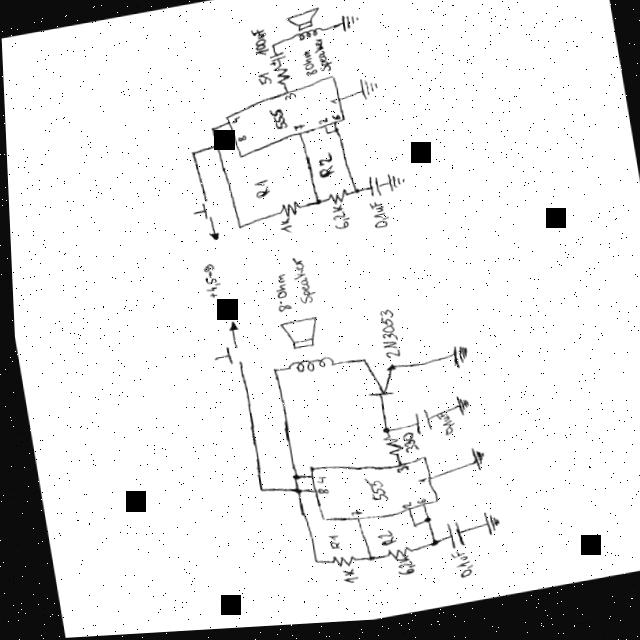capacitor: (439, 524, 460, 554), (408, 411, 429, 439), (266, 52, 287, 70), (365, 177, 380, 202)
ground: (356, 77, 380, 105), (445, 347, 468, 376), (476, 512, 498, 542), (338, 15, 361, 39), (380, 174, 403, 198), (465, 451, 483, 477), (450, 398, 468, 423)
junction: (376, 428, 388, 439), (423, 542, 434, 551), (349, 190, 359, 199), (286, 475, 296, 484), (289, 489, 300, 497), (417, 519, 426, 528), (253, 487, 263, 495), (311, 201, 320, 209), (406, 524, 414, 532), (267, 369, 275, 376), (233, 225, 241, 232), (211, 144, 219, 151), (362, 558, 369, 565), (330, 130, 338, 136), (208, 127, 214, 134), (187, 152, 194, 158), (306, 561, 313, 567), (269, 44, 275, 51), (322, 133, 329, 139)
resistor: (376, 437, 399, 462), (323, 555, 353, 573), (273, 202, 301, 221), (271, 65, 290, 88), (381, 550, 409, 564), (324, 192, 346, 209)
source: (222, 321, 237, 334), (204, 231, 219, 243)
switch: (209, 344, 240, 372), (187, 199, 211, 225)
text: (371, 310, 398, 365), (287, 257, 316, 308), (266, 271, 290, 317), (310, 38, 333, 76), (198, 264, 221, 301), (358, 477, 385, 508), (443, 552, 468, 584), (312, 153, 336, 182), (366, 203, 388, 234), (430, 414, 453, 442), (327, 205, 349, 234), (250, 30, 269, 61), (298, 51, 318, 80), (266, 109, 287, 133), (368, 532, 393, 552), (388, 559, 410, 580), (250, 180, 270, 202), (396, 435, 414, 457), (335, 571, 354, 589), (321, 535, 337, 554), (275, 219, 291, 237), (255, 72, 272, 88), (390, 468, 405, 479), (290, 124, 305, 135), (281, 94, 296, 104), (344, 512, 360, 521), (310, 477, 323, 488), (326, 99, 337, 109), (329, 114, 340, 124), (312, 489, 324, 498), (410, 479, 422, 488), (396, 504, 407, 513), (234, 136, 246, 144), (315, 120, 327, 128), (410, 500, 421, 508), (228, 118, 238, 126)
transistor: (358, 360, 397, 403)
